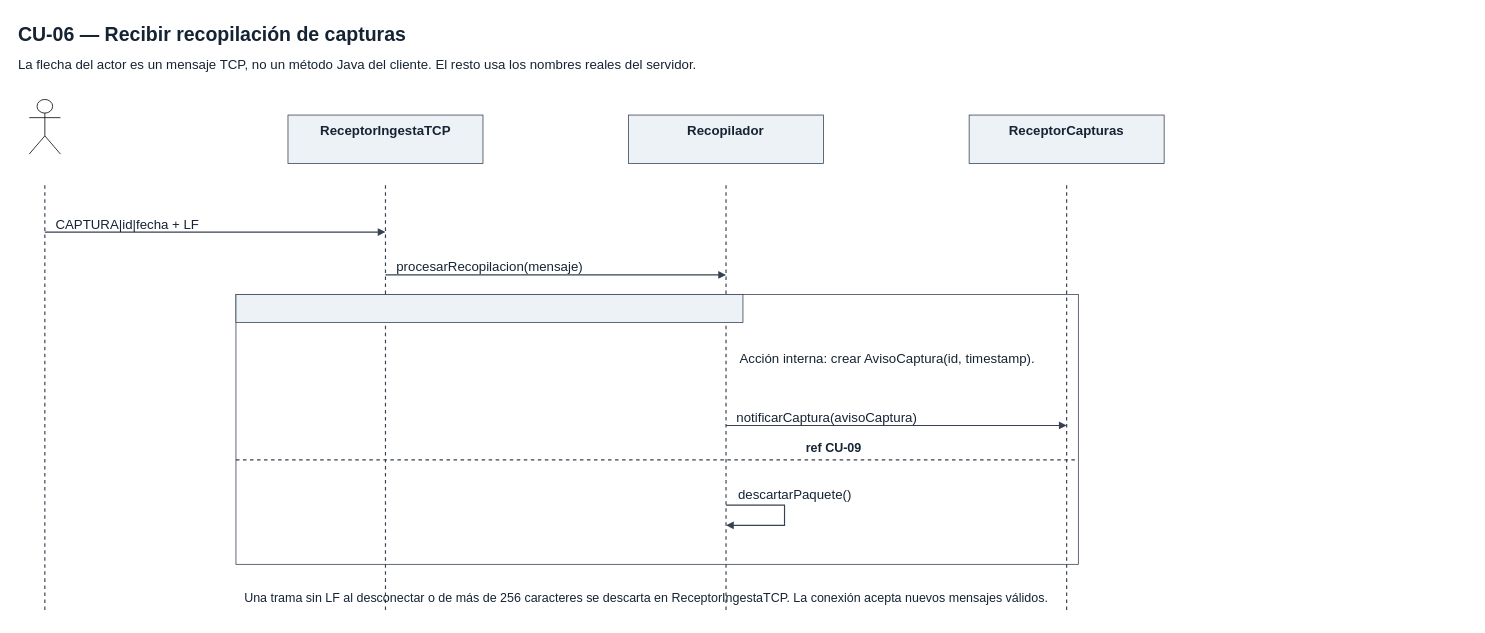
Image size: 1485x633. Some labels were removed from this diagram. Each missing label, with the centre of its shape:
"alt — formato válido / mensaje inválido" belongs at (x=489, y=308).
"Orquita" belongs at (x=44, y=126).
